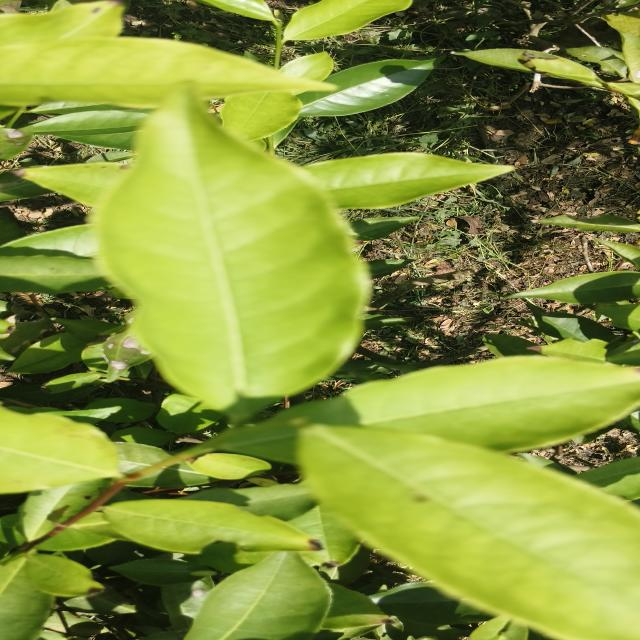Leaf: (93, 88, 369, 410), (298, 426, 640, 640), (214, 356, 640, 463), (0, 37, 332, 107), (184, 552, 330, 640), (303, 152, 512, 209), (102, 500, 320, 554), (0, 407, 118, 493), (297, 58, 439, 116), (370, 582, 493, 640), (20, 479, 109, 540), (13, 162, 129, 207), (284, 0, 411, 40), (178, 484, 315, 521), (0, 556, 54, 640), (508, 271, 640, 305), (0, 254, 109, 294), (289, 505, 359, 565), (221, 92, 302, 140), (524, 302, 615, 342), (25, 554, 103, 597), (0, 224, 98, 257), (31, 110, 147, 137), (8, 333, 84, 374), (161, 577, 213, 632), (520, 52, 603, 86), (576, 456, 640, 500), (111, 558, 211, 585), (156, 393, 221, 434), (101, 329, 151, 381), (188, 453, 271, 480), (130, 462, 211, 487), (567, 46, 627, 77), (536, 215, 640, 232), (85, 397, 154, 422), (540, 338, 607, 363), (350, 216, 418, 240), (114, 443, 166, 474), (55, 318, 122, 342), (454, 48, 523, 71), (280, 52, 333, 81), (596, 239, 640, 269), (483, 334, 540, 357), (44, 372, 101, 393), (365, 259, 415, 279)
